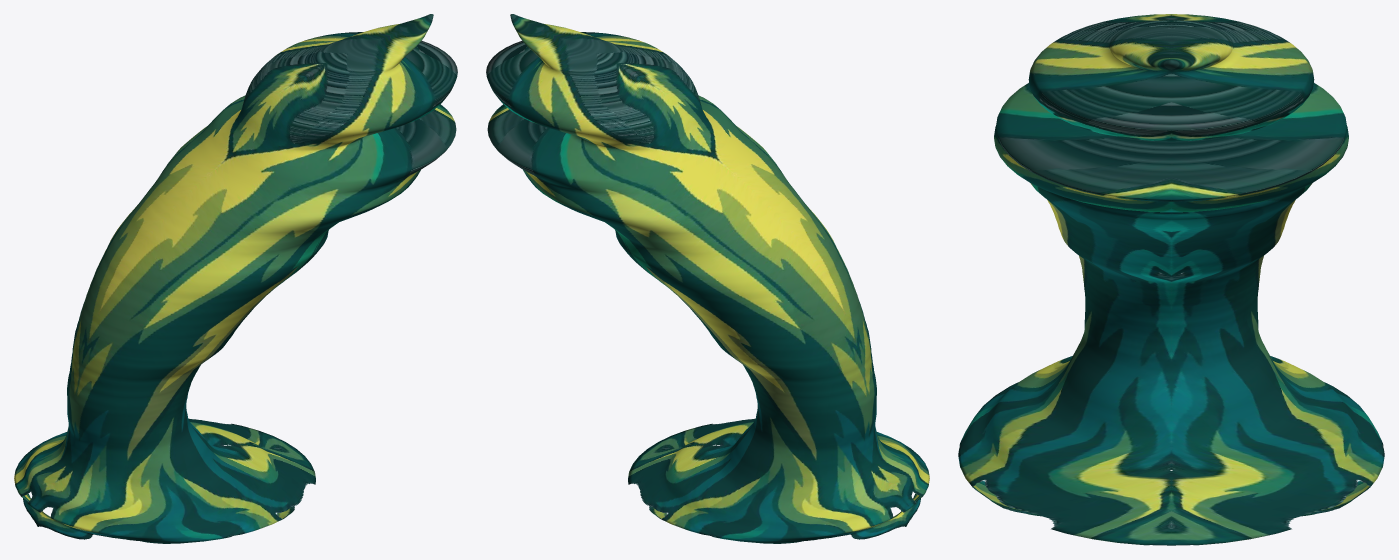
File: leaning_tree.glb
3 views of the same model, side by side, from view 1: azimuth 30°, elevation 25°; view 2: azimuth 150°, elevation 25°; view 3: azimuth 270°, elevation 25° (orthographic). The views are drawn at different scales.
Visible parts, largest first — view 1: leaning_tree; view 2: leaning_tree; view 3: leaning_tree.
Boxes of the visible parts, x1,y1,x2,y2 form: leaning_tree: (14,14,457,543); leaning_tree: (486,14,929,543); leaning_tree: (958,14,1384,545).
Bounding box in the file's own units: 0.9784 × 0.9473 × 0.6075.
Materials: 1 (1 with a texture image).
